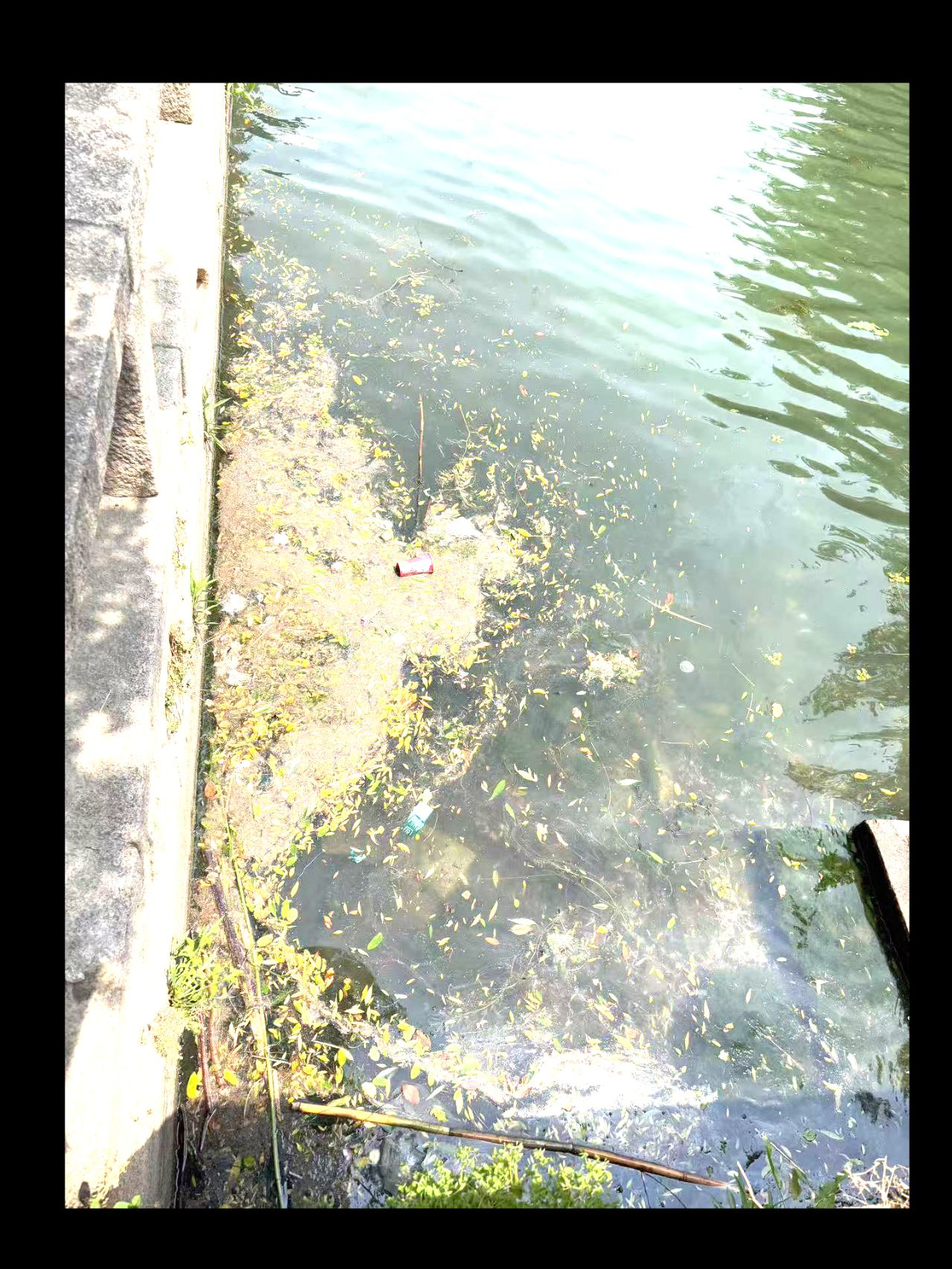Natural wastes: (269, 942, 330, 1015), (389, 1042, 492, 1082)
Other: (220, 355, 383, 581), (254, 584, 385, 807), (533, 1058, 704, 1113), (202, 782, 292, 860), (580, 649, 640, 682)
Plastic wastes: (397, 553, 437, 576), (213, 656, 248, 682), (402, 803, 431, 834), (444, 519, 484, 540), (221, 592, 245, 614), (347, 850, 367, 862), (390, 631, 405, 646), (678, 659, 693, 671), (380, 517, 393, 528), (333, 561, 343, 569), (242, 759, 250, 767)
